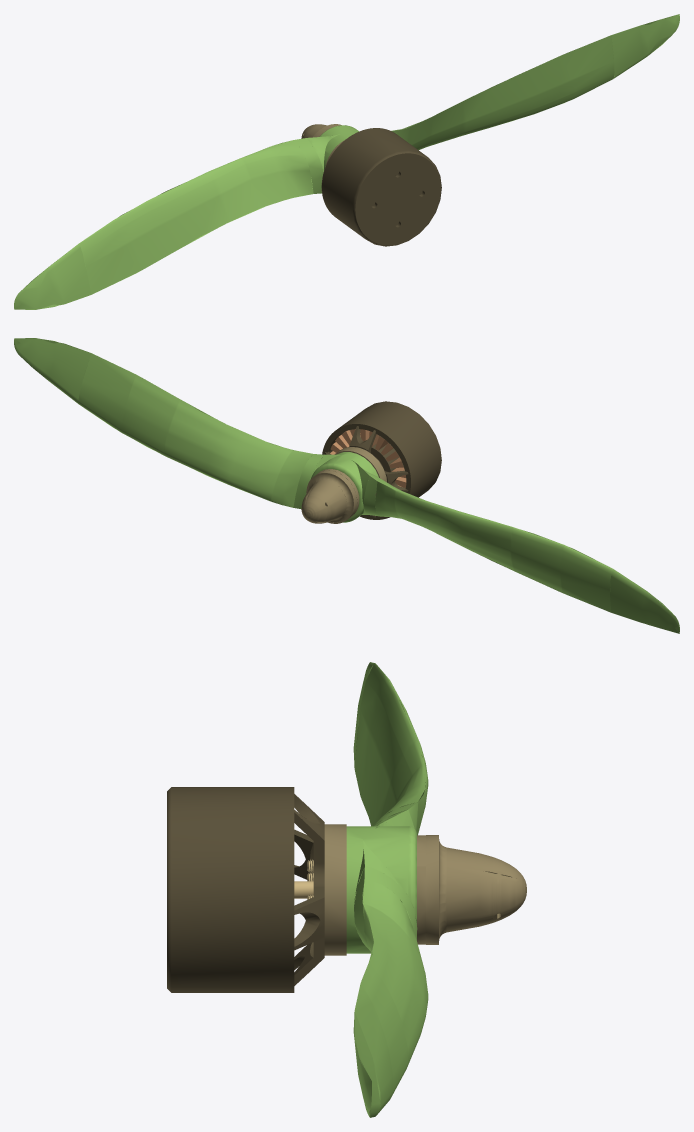
File: helices.glb
The picture shows the model from 3 angles, top to bottom: view 1: azimuth 30°, elevation 25°; view 2: azimuth 150°, elevation 25°; view 3: azimuth 270°, elevation 25°; orthographic projection. The views are drawn at different scales.
Visible parts, largest first — view 1: Geode; view 2: Geode; view 3: Geode.
Part boxes in pixels (x1,y1,x2,y2): Geode: (14, 14, 679, 309); Geode: (14, 338, 679, 633); Geode: (167, 662, 526, 1117).
Bounding box in the file's own units: 350 × 69.76 × 81.9.
